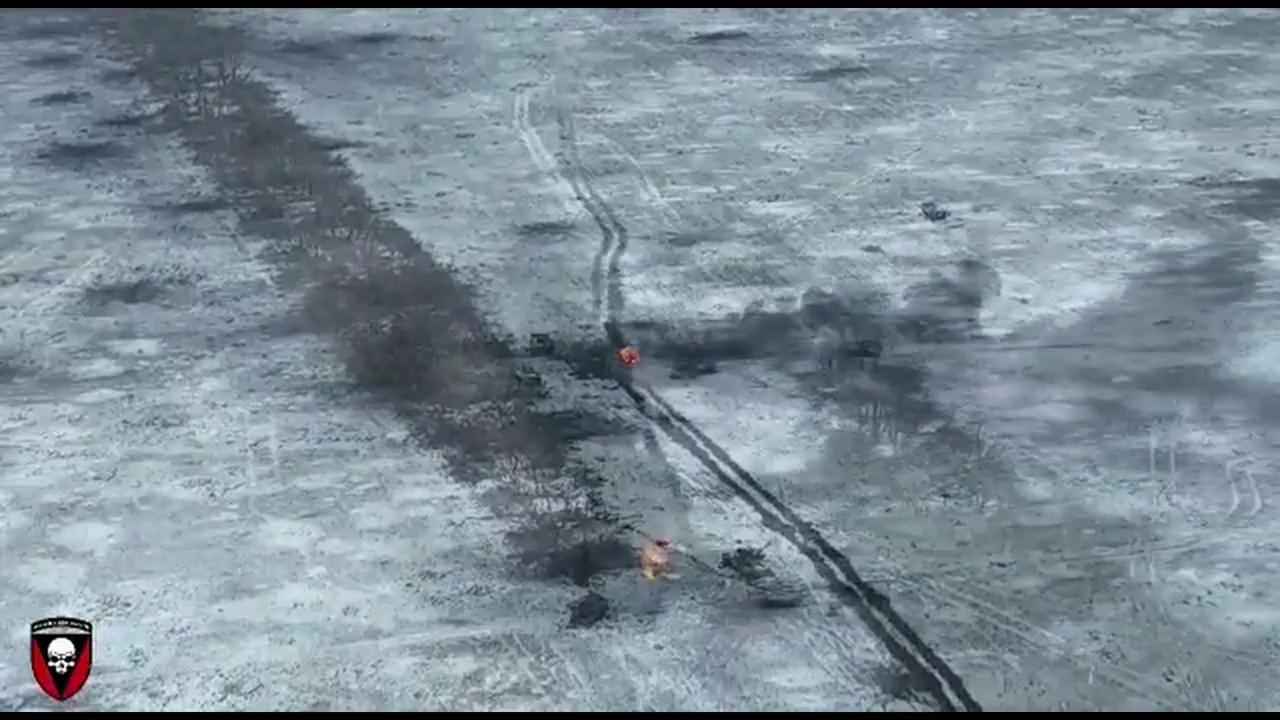vehicle: (674, 355, 718, 377), (836, 340, 880, 360), (514, 363, 542, 386), (528, 332, 554, 356), (920, 202, 947, 220)
